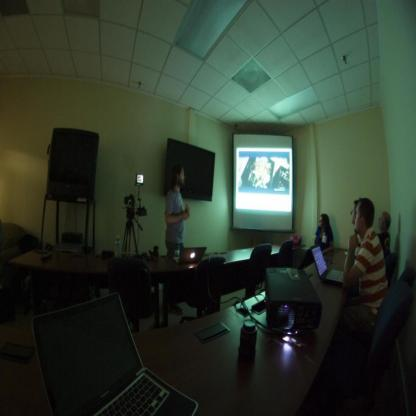board: (14, 288, 204, 416), (309, 244, 343, 286), (173, 247, 206, 266)
